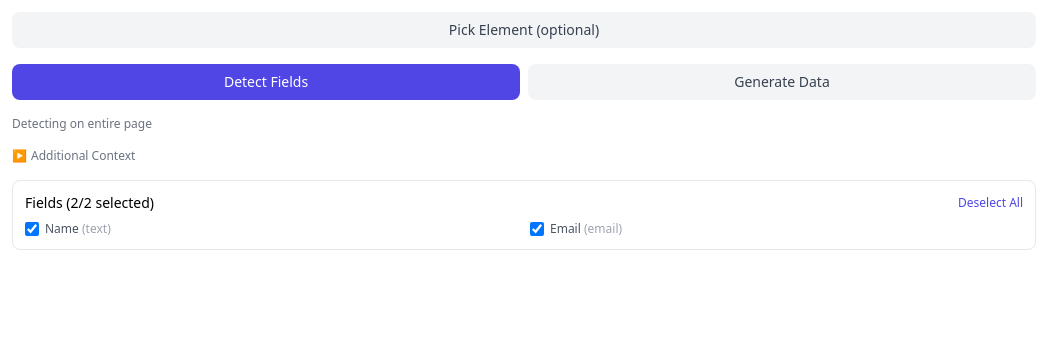
Scenario: TestDataTab › Generate Data shows error when no key and no token
Click the button "Generate Data": (782, 82) [528, 64, 1036, 100]
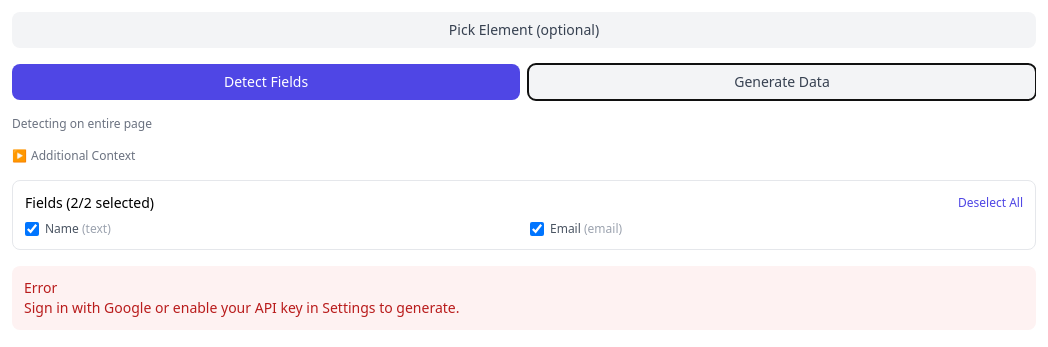
Check: the text "Sign in with Google or enable your API key" is shown, box [24, 298, 460, 317]
